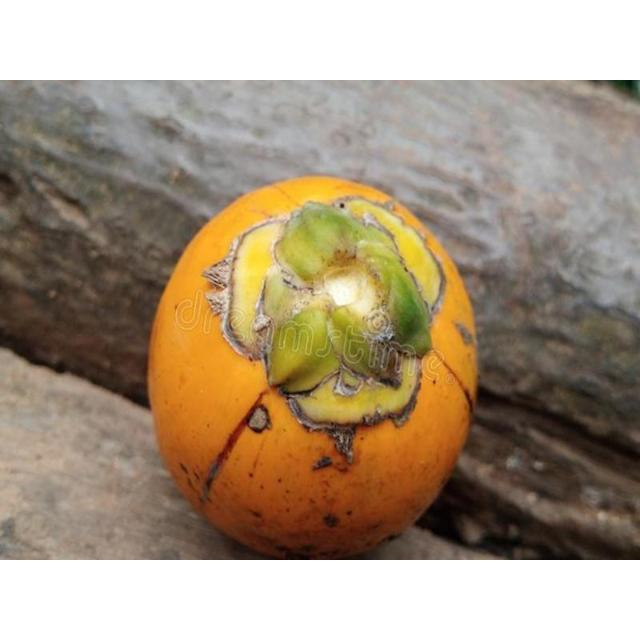good: (146, 177, 479, 559)
